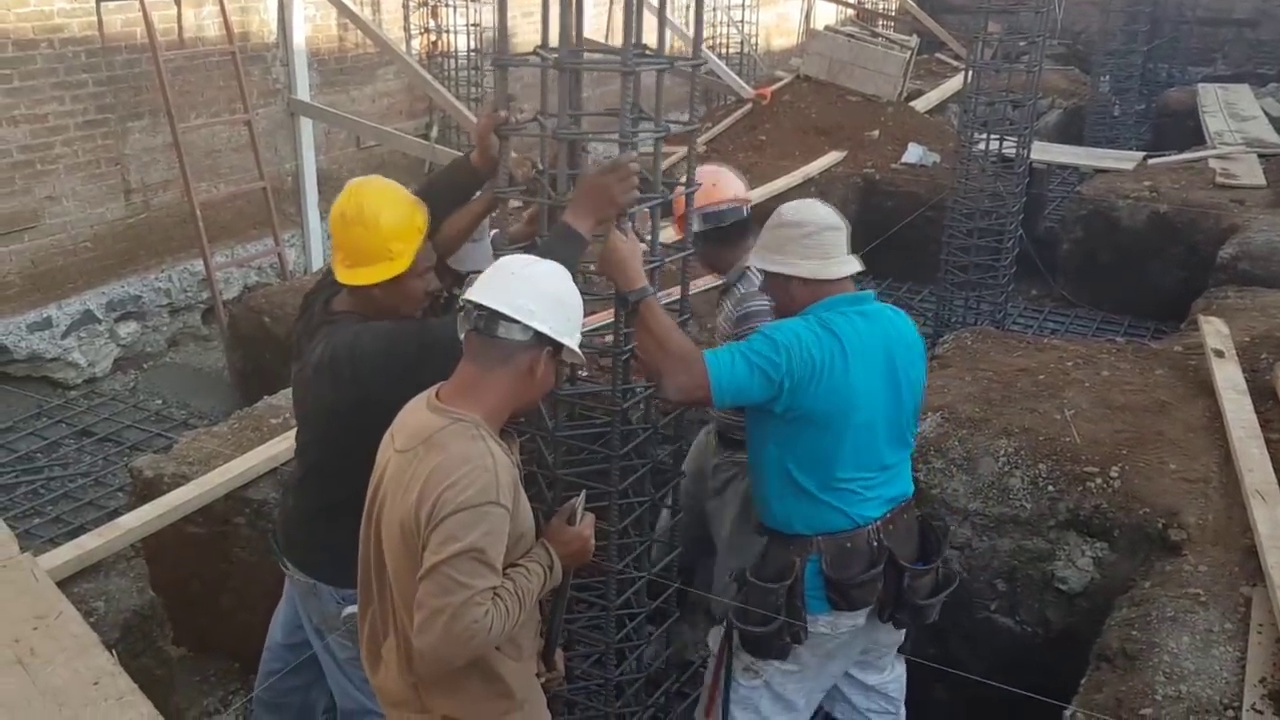helmet: (456, 254, 582, 367), (319, 174, 430, 294), (673, 160, 756, 232)
helmet-off: (752, 200, 865, 321)
helmet-on: (424, 249, 590, 426), (311, 195, 451, 328), (668, 155, 762, 290)
person: (604, 185, 936, 706), (354, 250, 593, 716), (241, 179, 446, 717), (636, 166, 776, 674)
